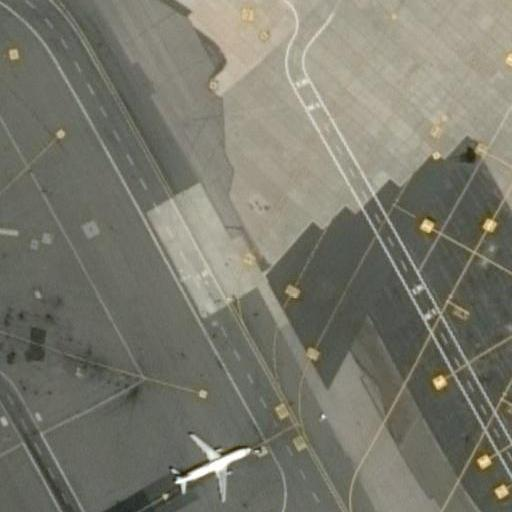Aircraft: (165, 422, 253, 504)
